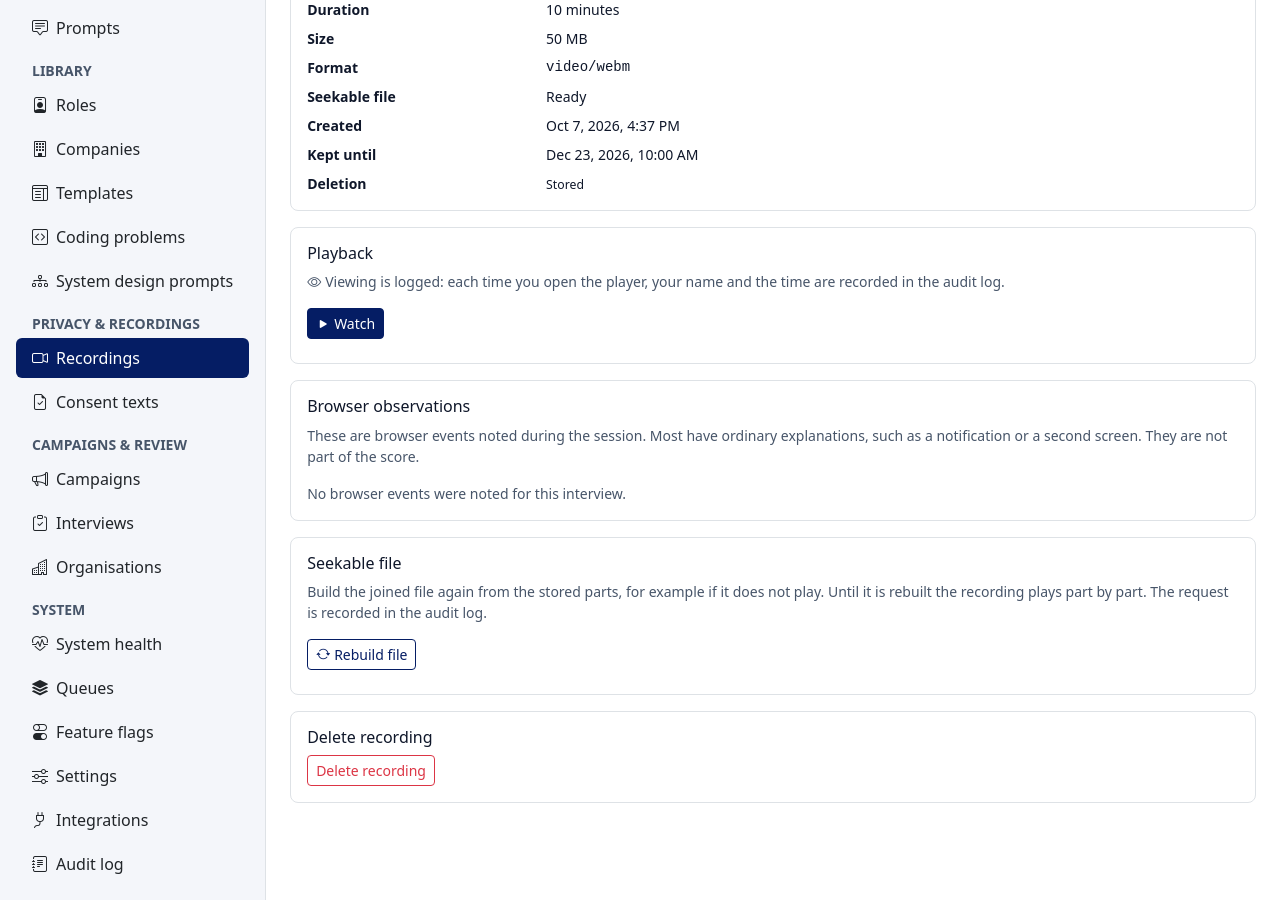
Test: recordings › requires a reason and confirmation before deleting a recording
(page scrolled)
Click the button "Delete recording": (371, 770) x1=307 y1=755 x2=435 y2=786
(page scrolled)
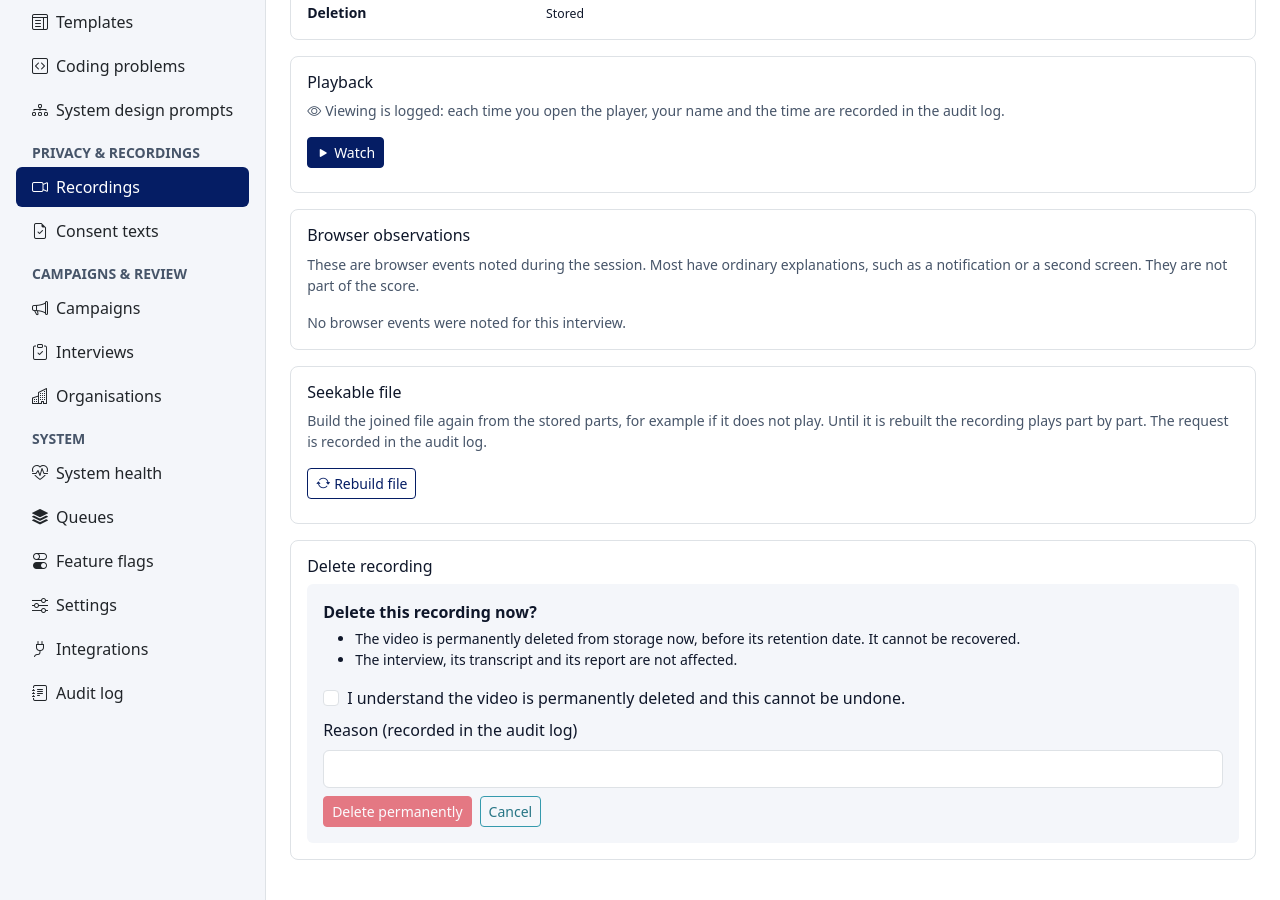
Now the list item "permanently deleted from storage now" is shown, box x1=355 y1=629 x2=1020 y2=648
Now the button "Delete permanently" is disabled, box x1=323 y1=796 x2=472 y2=827
In the field labelled "Reason (recorded in the audit log)": (773, 769) x1=323 y1=750 x2=1223 y2=788, type "Candidate request"
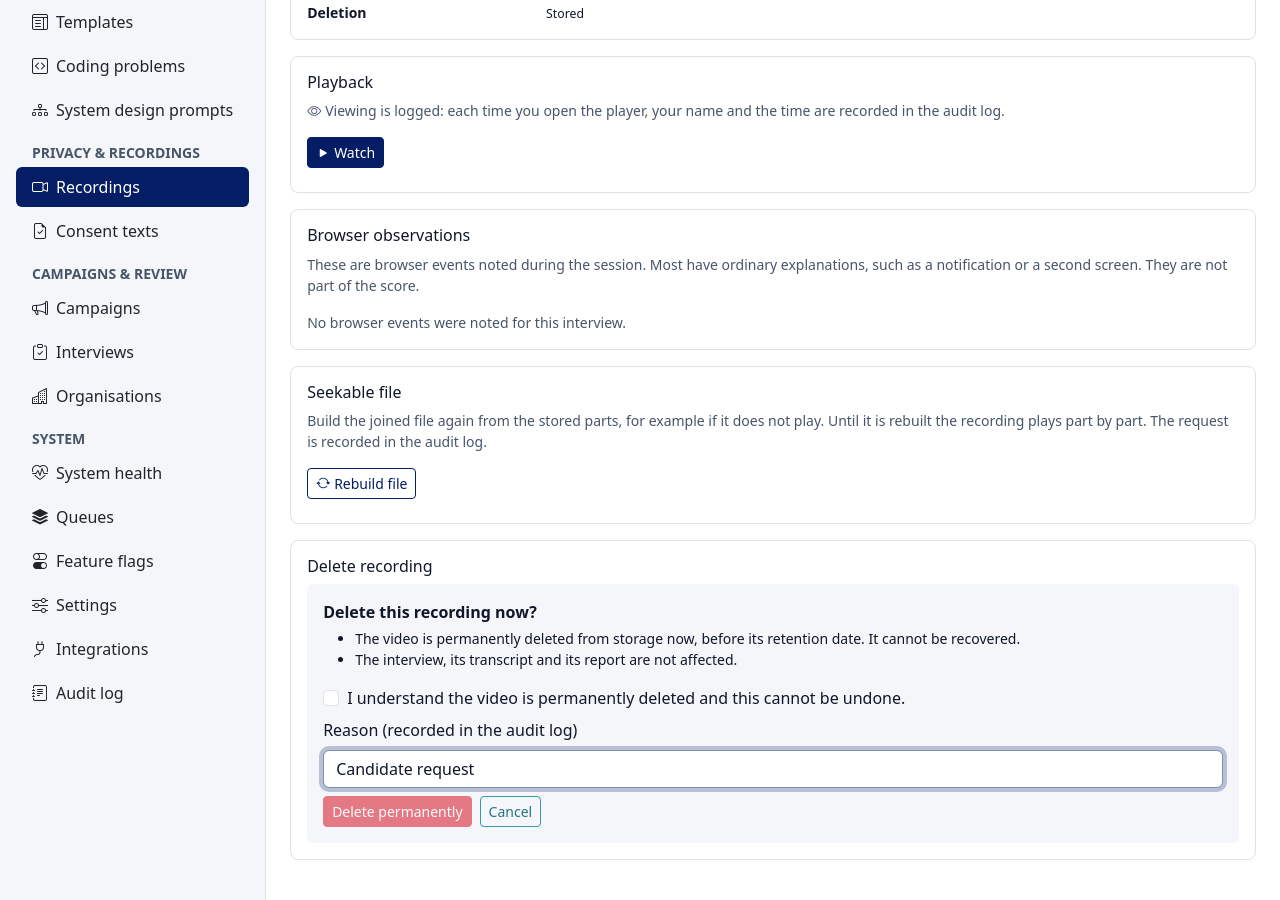
Now the button "Delete permanently" is disabled, box x1=323 y1=796 x2=472 y2=827
Click the checkbox labelled "I understand the video is permanently deleted and this cannot be undone.": (331, 698) x1=323 y1=690 x2=339 y2=706
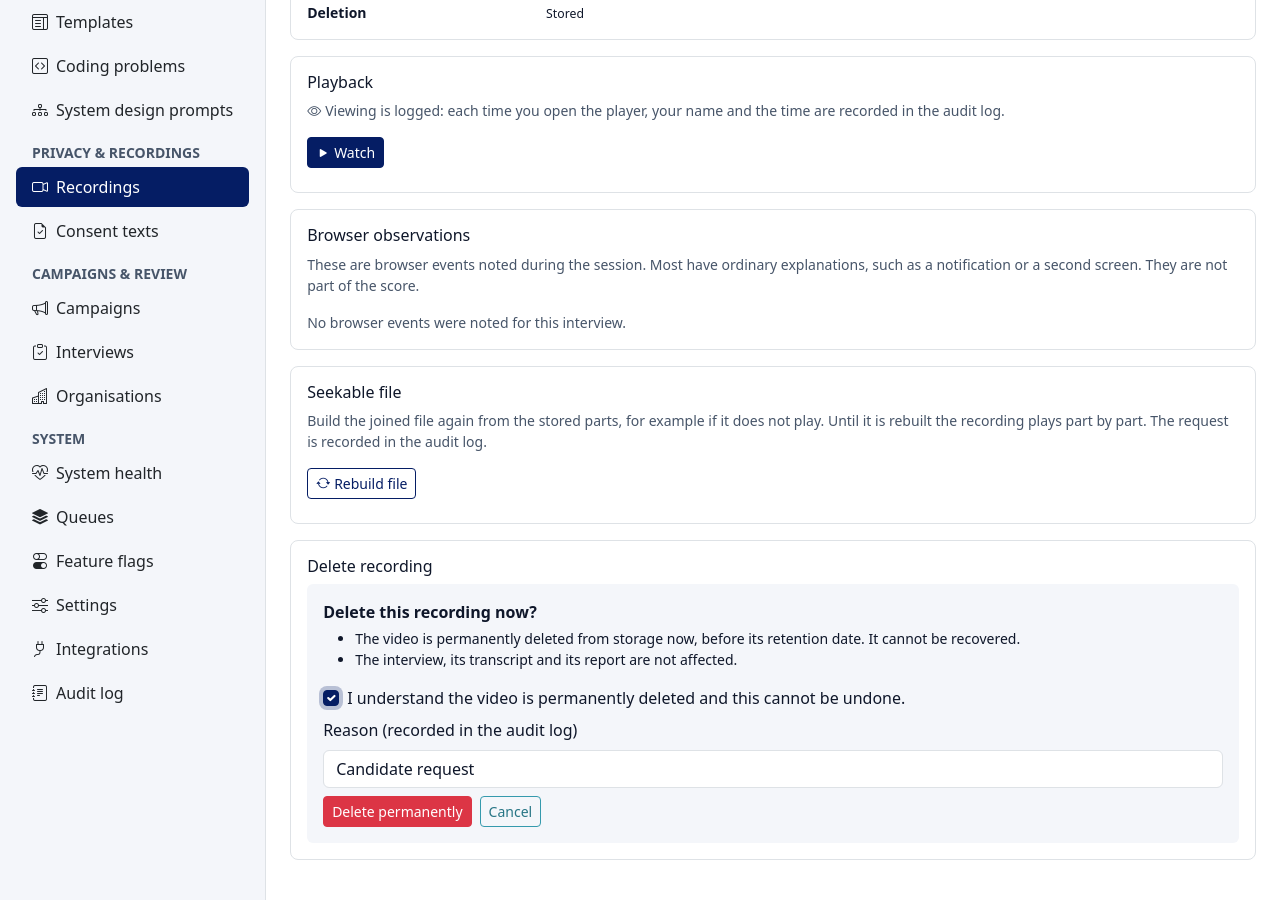
Now the button "Delete permanently" is enabled
Click the button "Delete permanently": (397, 811) x1=323 y1=796 x2=472 y2=827
(page scrolled)
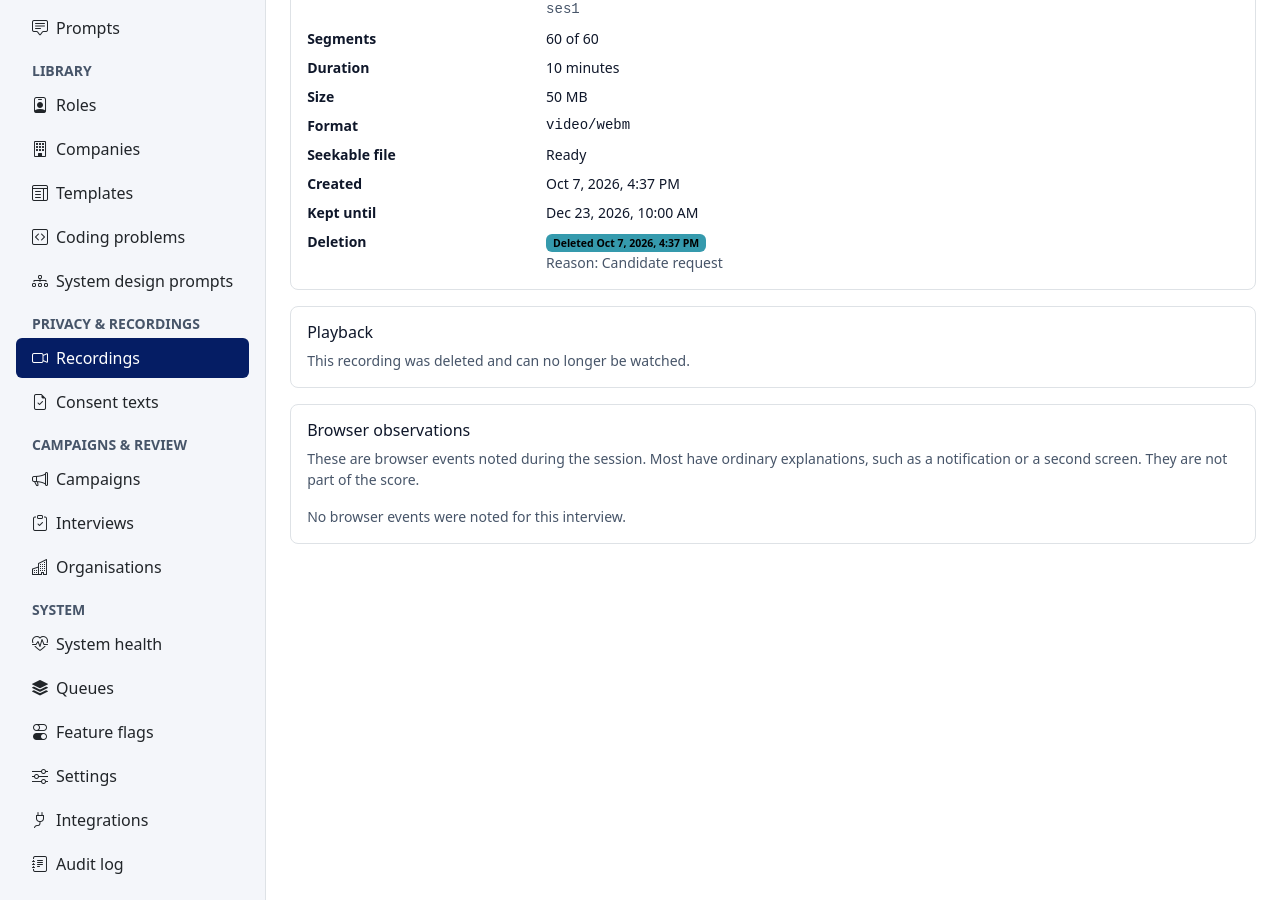
Now the heading "Delete recording" is gone
Now the text "This recording was deleted and can no longer be watched." is shown, box x1=307 y1=351 x2=690 y2=370
